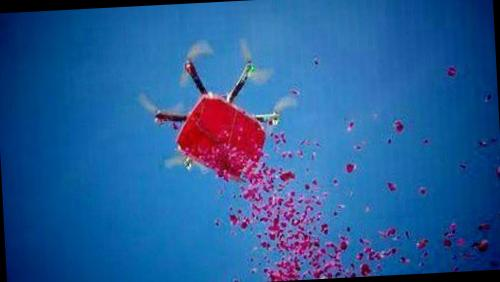drone: (133, 55, 295, 184)
